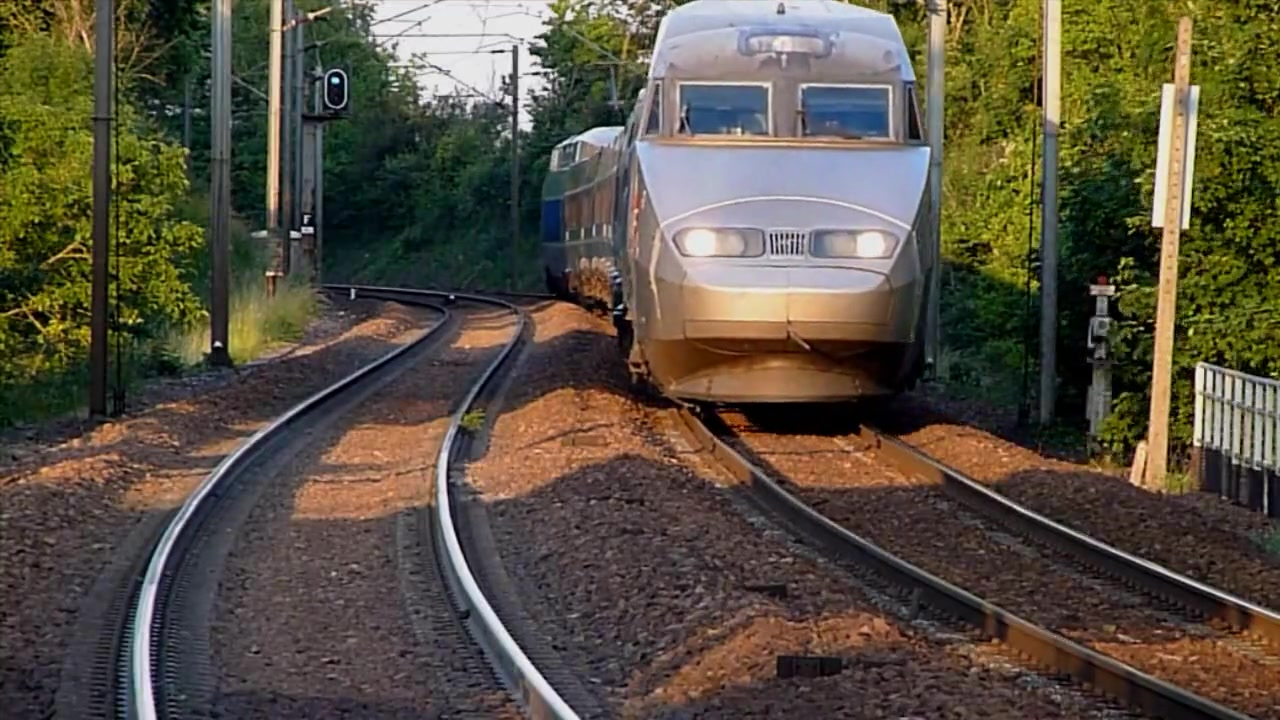train: (539, 1, 949, 416)
